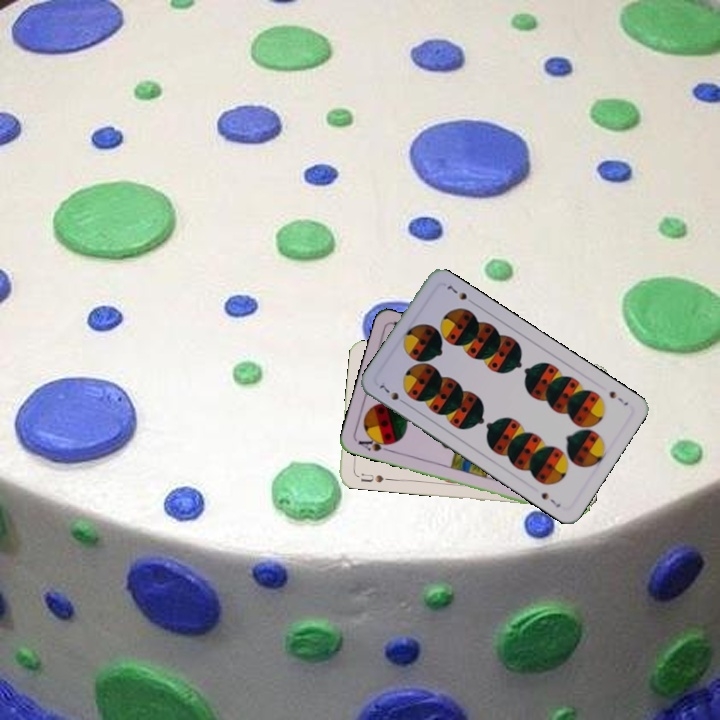S7: (376, 381, 410, 407), (605, 387, 631, 408)
SA: (354, 433, 395, 455)
SU: (357, 469, 386, 485)
